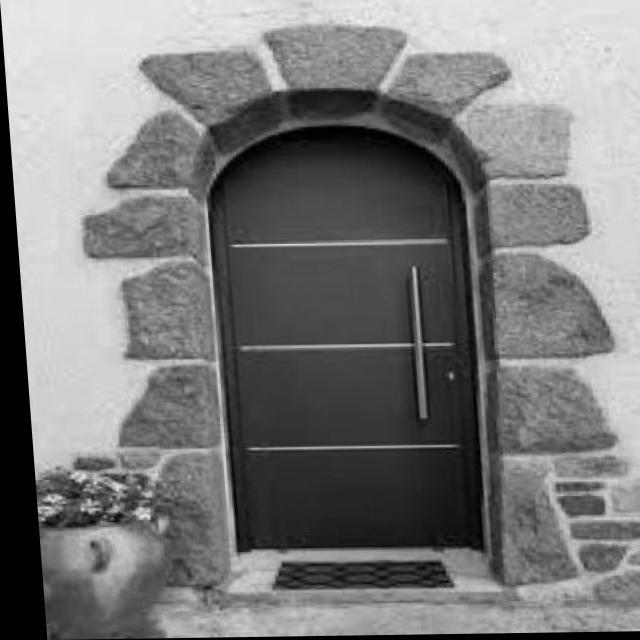door_handle: (395, 259, 430, 437)
